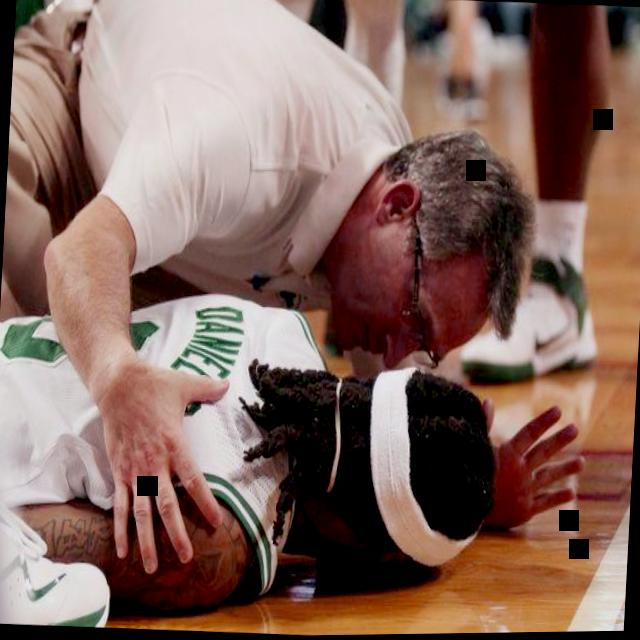Fall-Detected: (0, 249, 562, 640)
